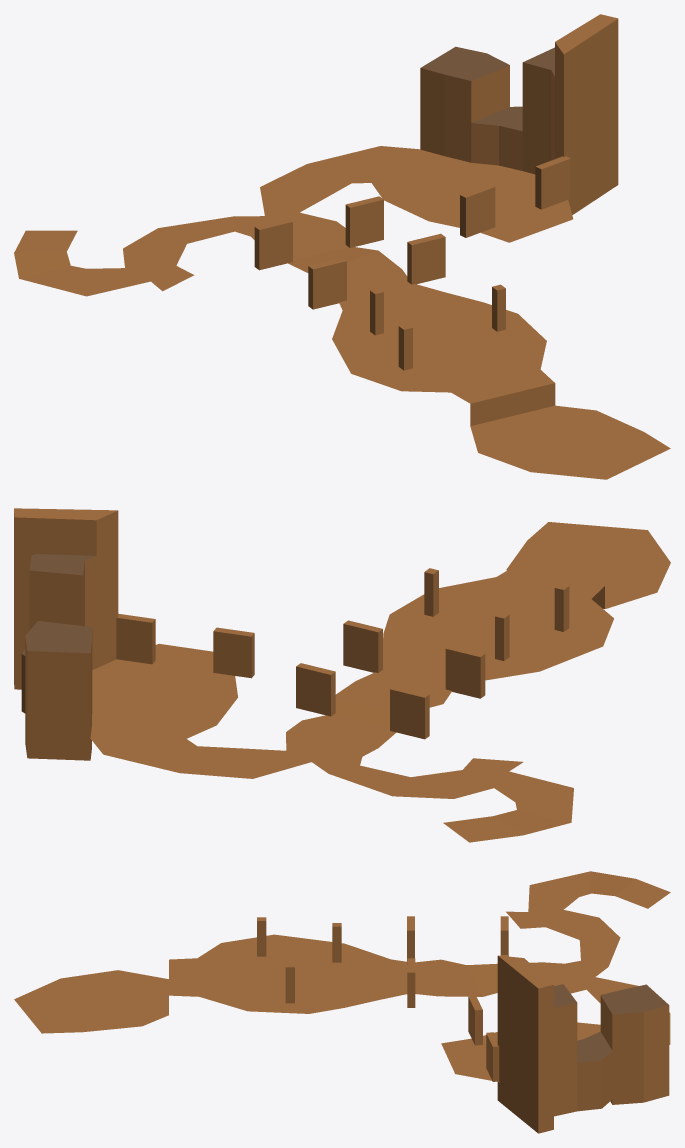
File: level3Layout.fbx
3 renders of one model, top to bottom at view 1: azimuth 30°, elevation 25°; view 2: azimuth 150°, elevation 25°; view 3: azimuth 270°, elevation 25°, orthographic. The views are drawn at different scales.
Visible parts, largest first — view 1: floors, floors.001; view 2: floors, floors.001; view 3: floors, floors.001.
Part boxes in pixels (box(x1,y1,x2,y2)): floors: box(14, 146, 670, 479); floors.001: box(420, 14, 618, 214); floors: box(90, 522, 670, 842); floors.001: box(14, 508, 118, 760); floors: box(14, 871, 670, 1082); floors.001: box(497, 955, 669, 1133).
Bounding box in the file's own units: 14624 × 4084 × 16759.
